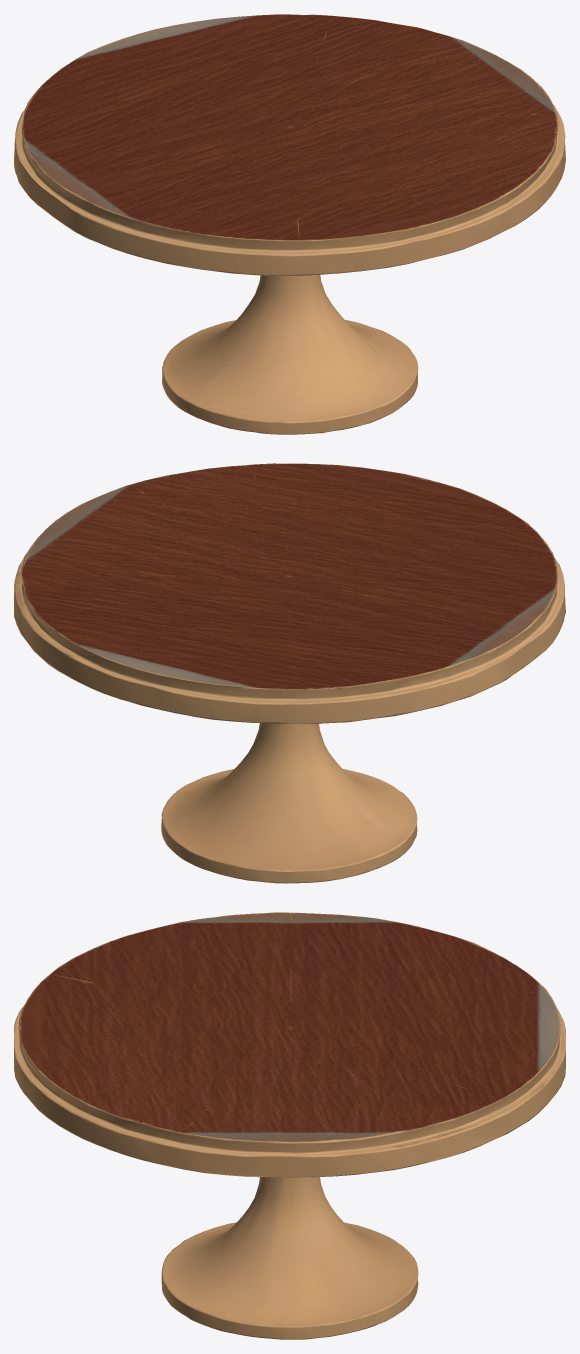
File: walnut-cocktail-table.glb
The picture shows the model from 3 angles, top to bottom: view 1: azimuth 30°, elevation 25°; view 2: azimuth 150°, elevation 25°; view 3: azimuth 270°, elevation 25°; orthographic projection.
Bounding box in the file's own units: 1 × 0.5165 × 1.
Materials: 1 (1 with a texture image).
